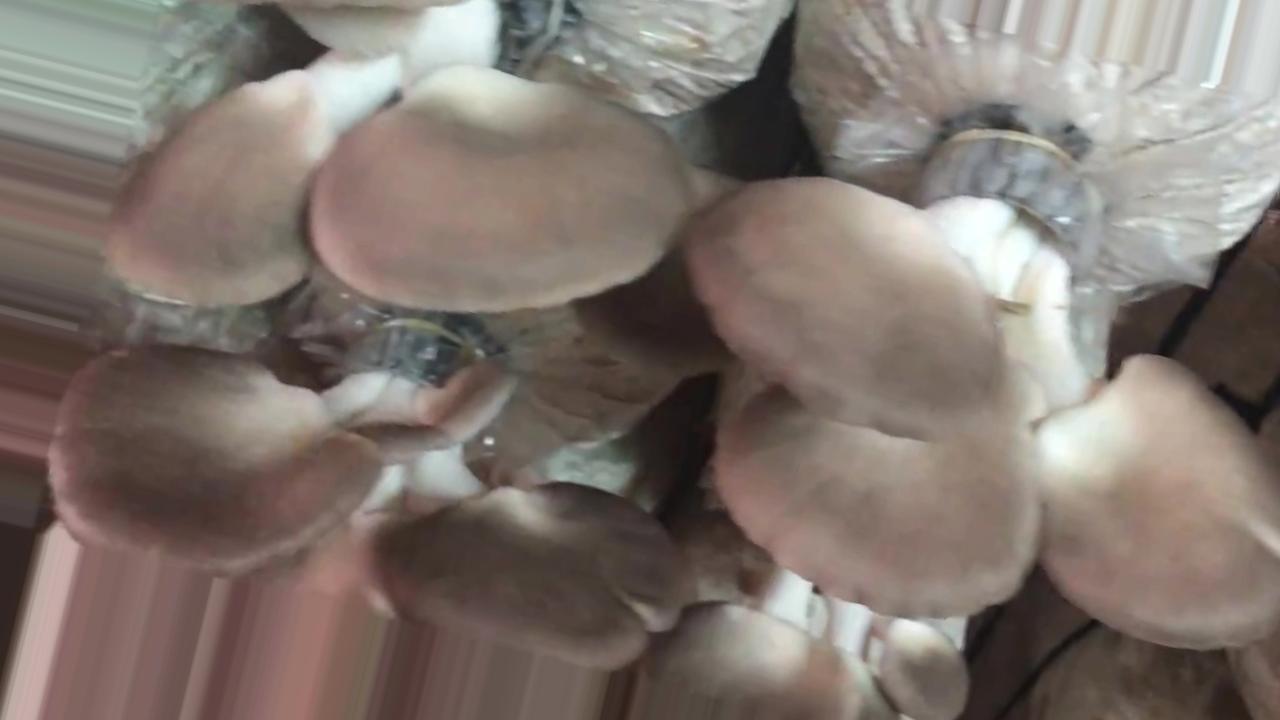nam: (691, 124, 1280, 648), (55, 321, 686, 720), (110, 1, 688, 306), (634, 516, 968, 720)
